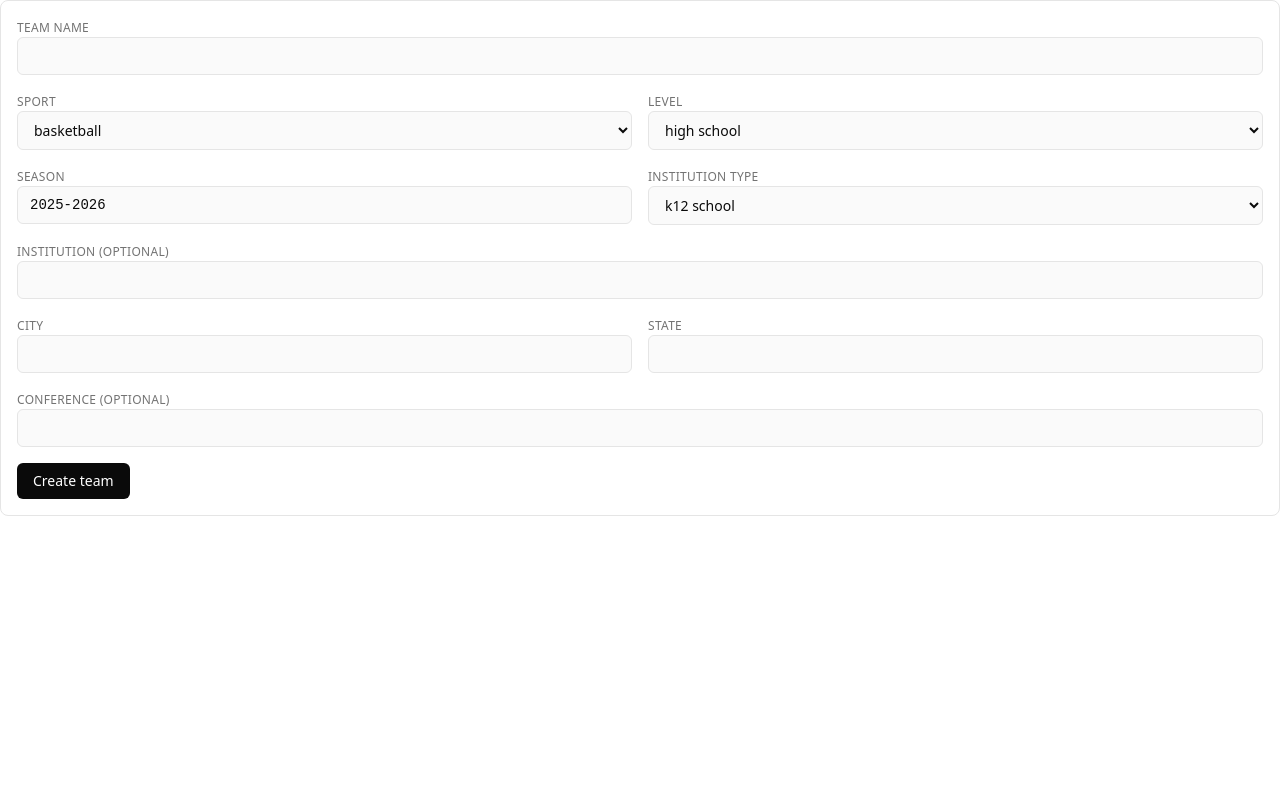
Test case: CreateTeamForm › tells a player-account user that only coaches can create teams
Type "Any Name" into the field labelled "Team name".
click(640, 56); type("Any Name")  # box left=17, top=37, right=1263, bottom=75
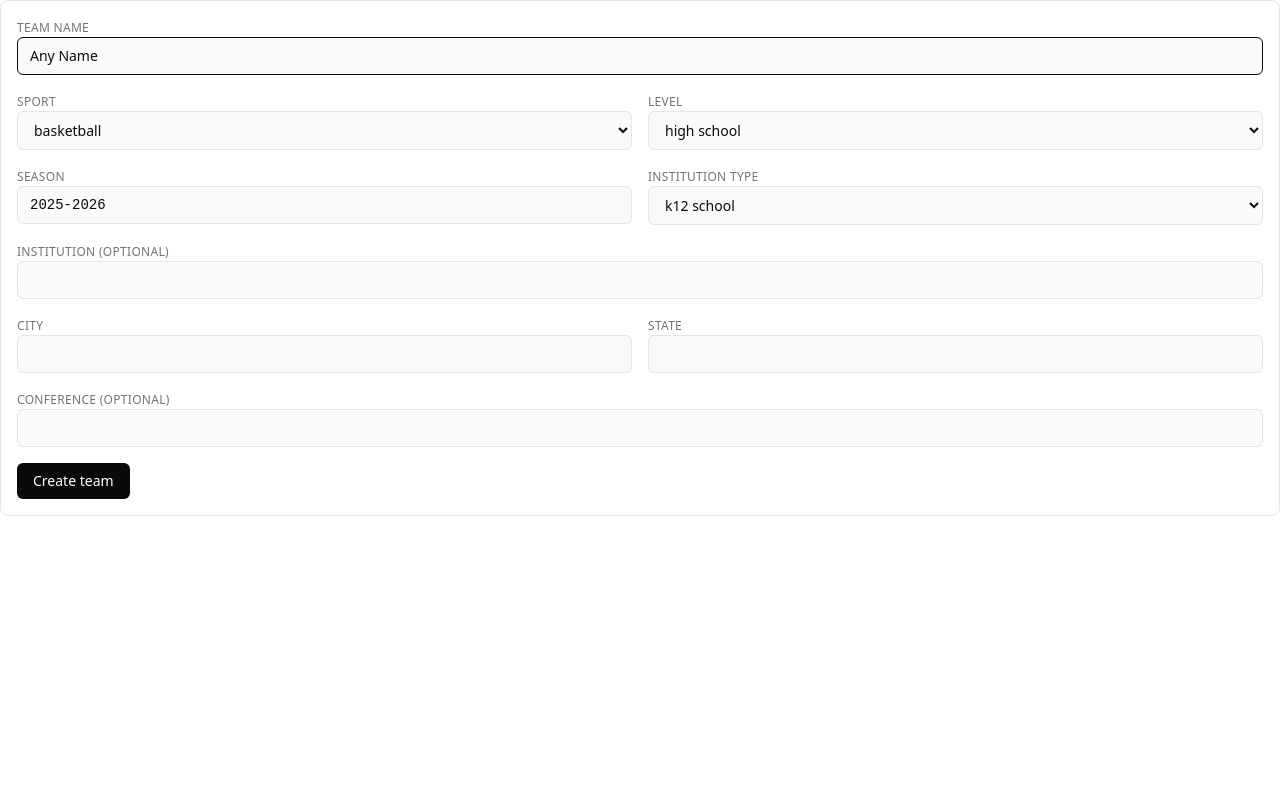
Click the button "Create team".
click(73, 481)  # box left=17, top=463, right=130, bottom=499
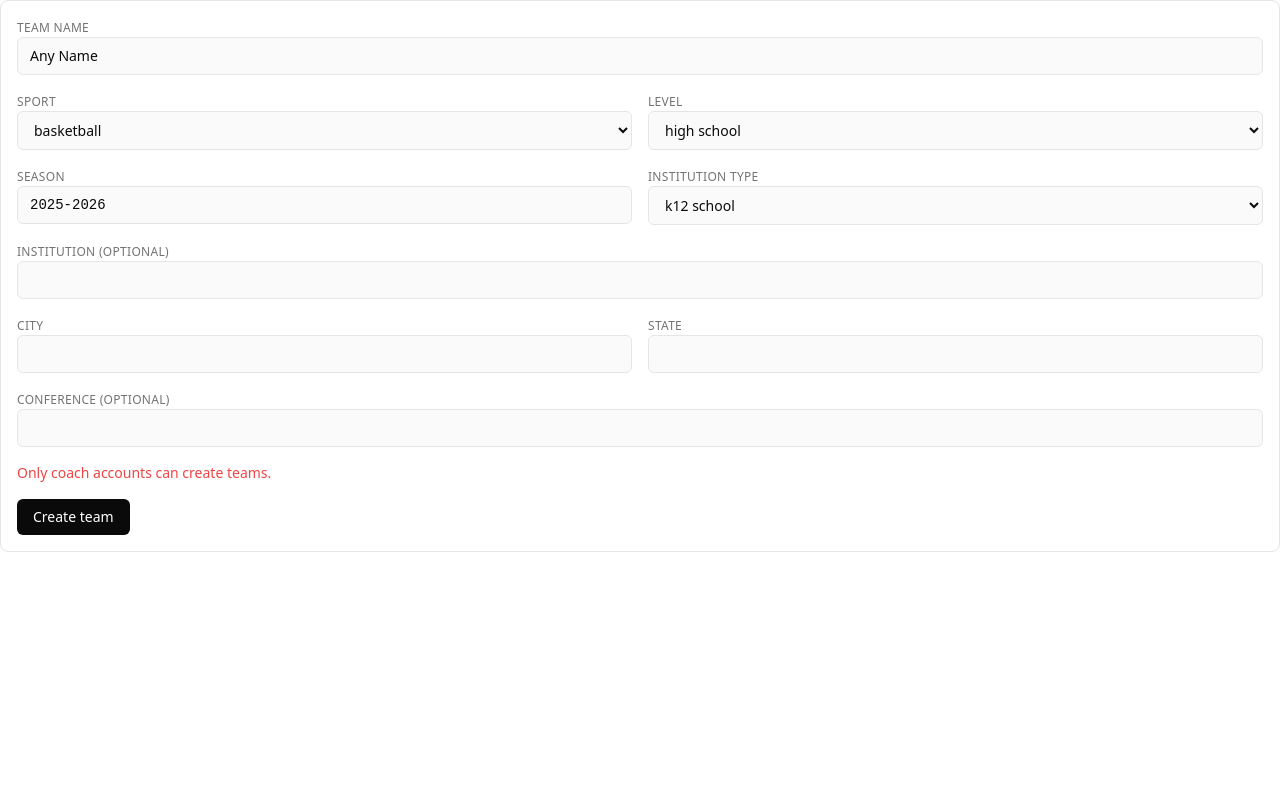
Result: the message shows "Only coach accounts" at left=17, top=463, right=271, bottom=482
